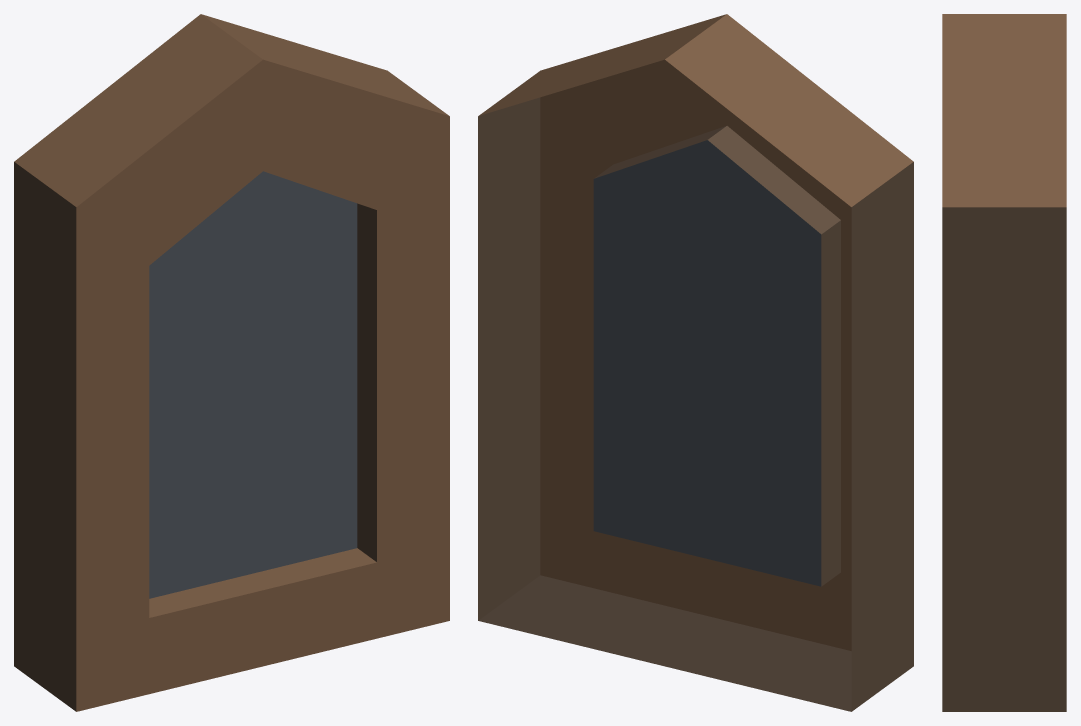
Rendered from TB_D_Bd_Window_Arch_A.FBX.
The picture shows the model from 3 angles, left to right: view 1: azimuth 30°, elevation 25°; view 2: azimuth 150°, elevation 25°; view 3: azimuth 270°, elevation 25°; orthographic projection.
Visible parts, largest first — view 1: TB_D_Bd_Window_Arch_A; view 2: TB_D_Bd_Window_Arch_A; view 3: TB_D_Bd_Window_Arch_A.
Boxes of the visible parts, bbox=[...] form: TB_D_Bd_Window_Arch_A: bbox=[14, 14, 449, 711]; TB_D_Bd_Window_Arch_A: bbox=[478, 14, 913, 711]; TB_D_Bd_Window_Arch_A: bbox=[942, 14, 1066, 711].
Size of the model in its own units: 0.7231 by 1.12 by 0.209.
